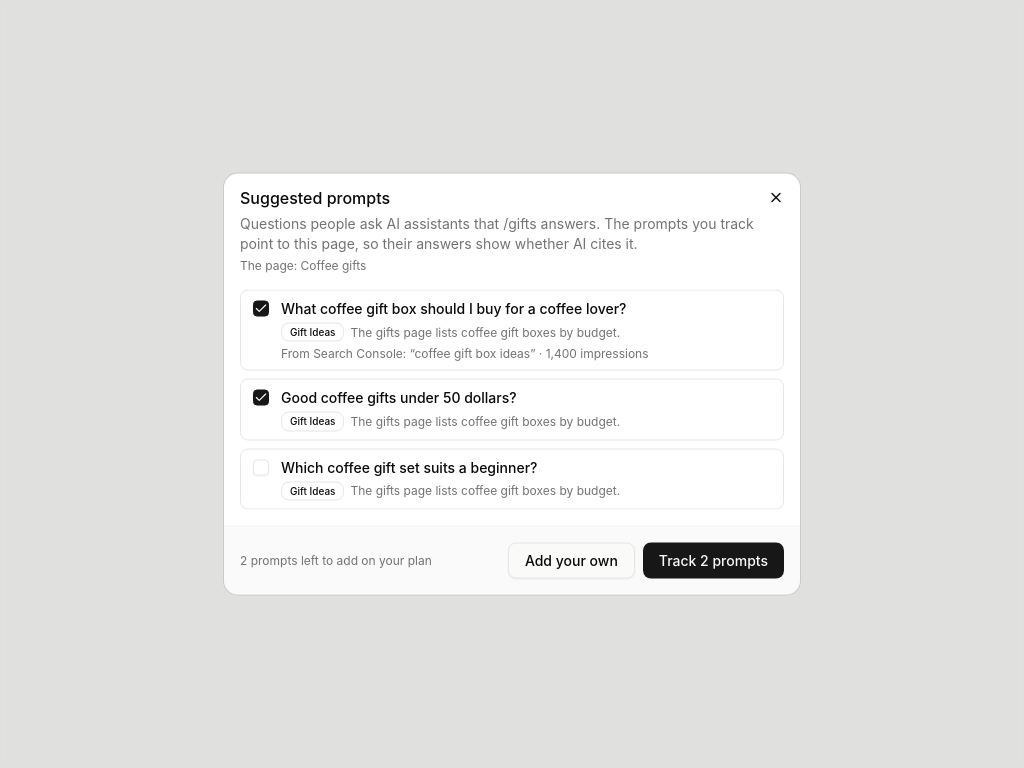
Test: PagePromptsDialog › never tracks more than the slots left
Click the checkbox named "Which coffee gift set suits a beginner?". click: coordinates (261, 467)
box: [253,459,269,475]
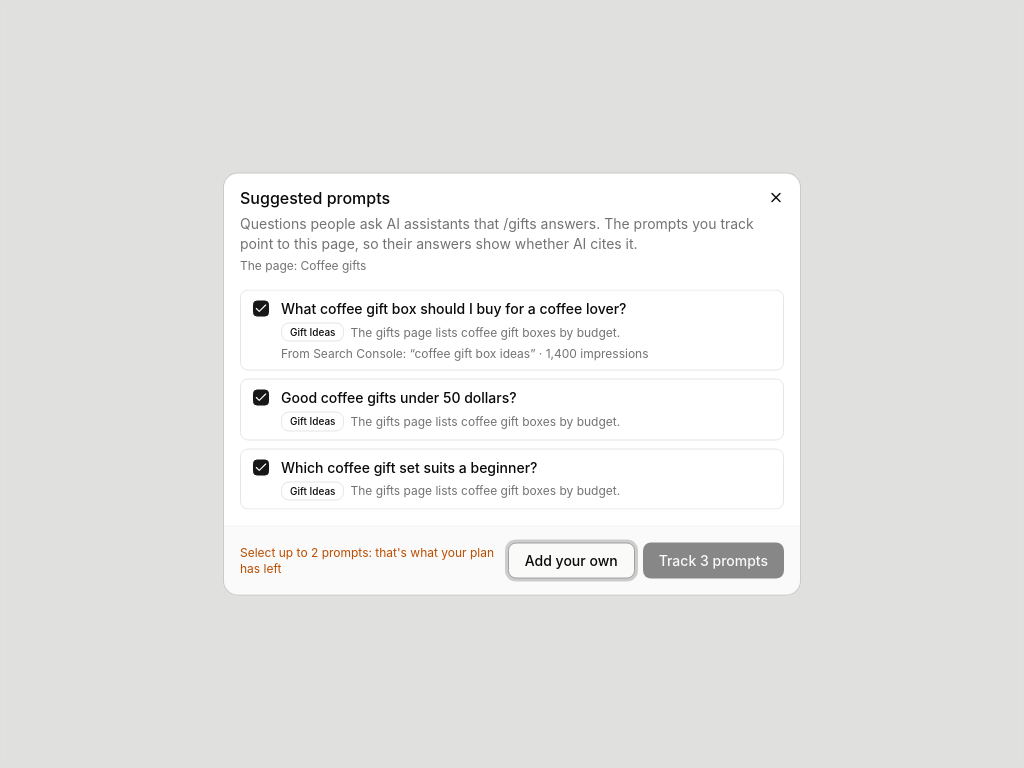
Check: the text "Select up to 2 prompts: that's what your plan has left" is shown, box [240,544,500,576]
Check: the button "Track 3 prompts" is disabled, box [643,542,784,578]
